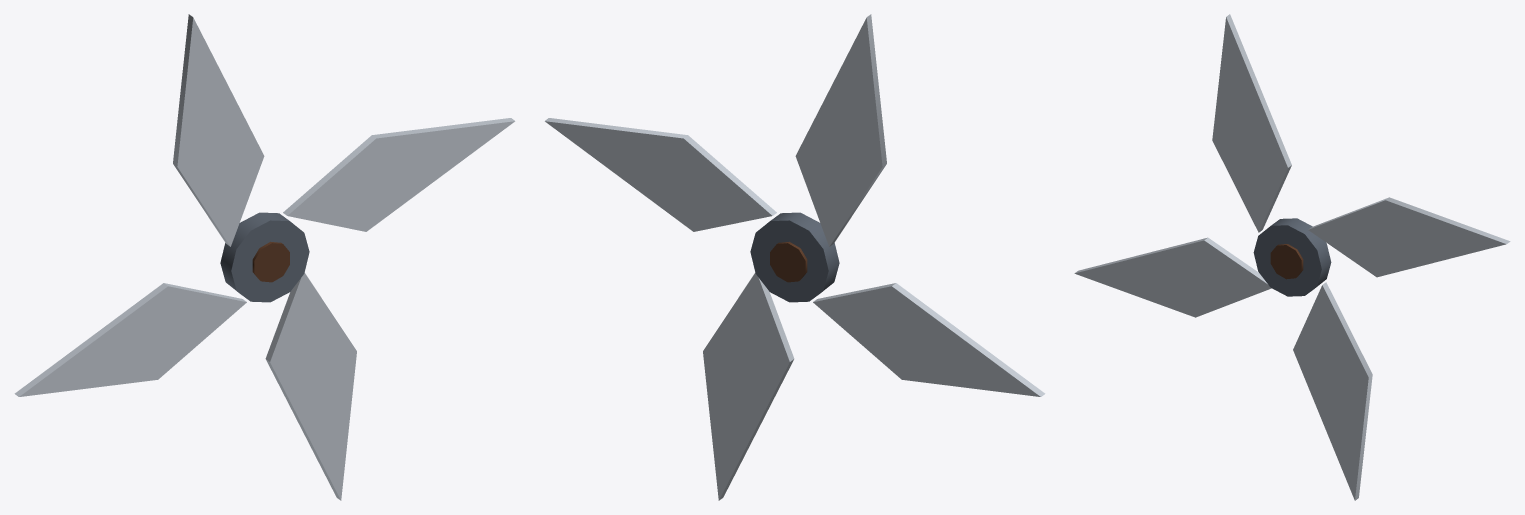
The model's file is Huuma.fbx.
The picture shows the model from 3 angles, left to right: view 1: azimuth 30°, elevation 25°; view 2: azimuth 150°, elevation 25°; view 3: azimuth 330°, elevation 25°; orthographic projection. The views are drawn at different scales.
Visible parts, largest first — view 1: Huuma; view 2: Huuma; view 3: Huuma.
Part boxes in pixels (left/top/right/bottom): Huuma: left=14, top=14, right=515, bottom=500; Huuma: left=544, top=14, right=1045, bottom=500; Huuma: left=1074, top=14, right=1510, bottom=500.
Size of the model in its own units: 0.6337 by 0.6337 by 0.032.
